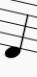D: (4, 1, 30, 59)
